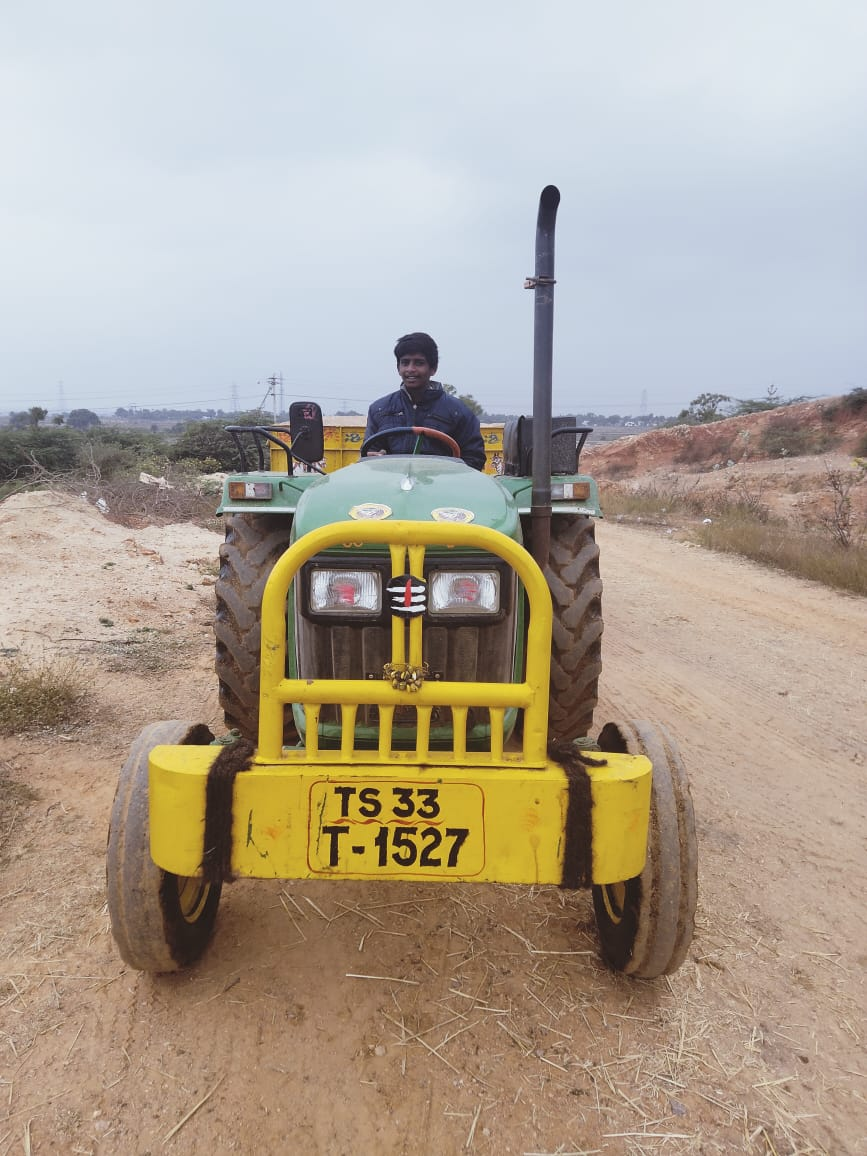license_plate: (300, 774, 497, 883)
